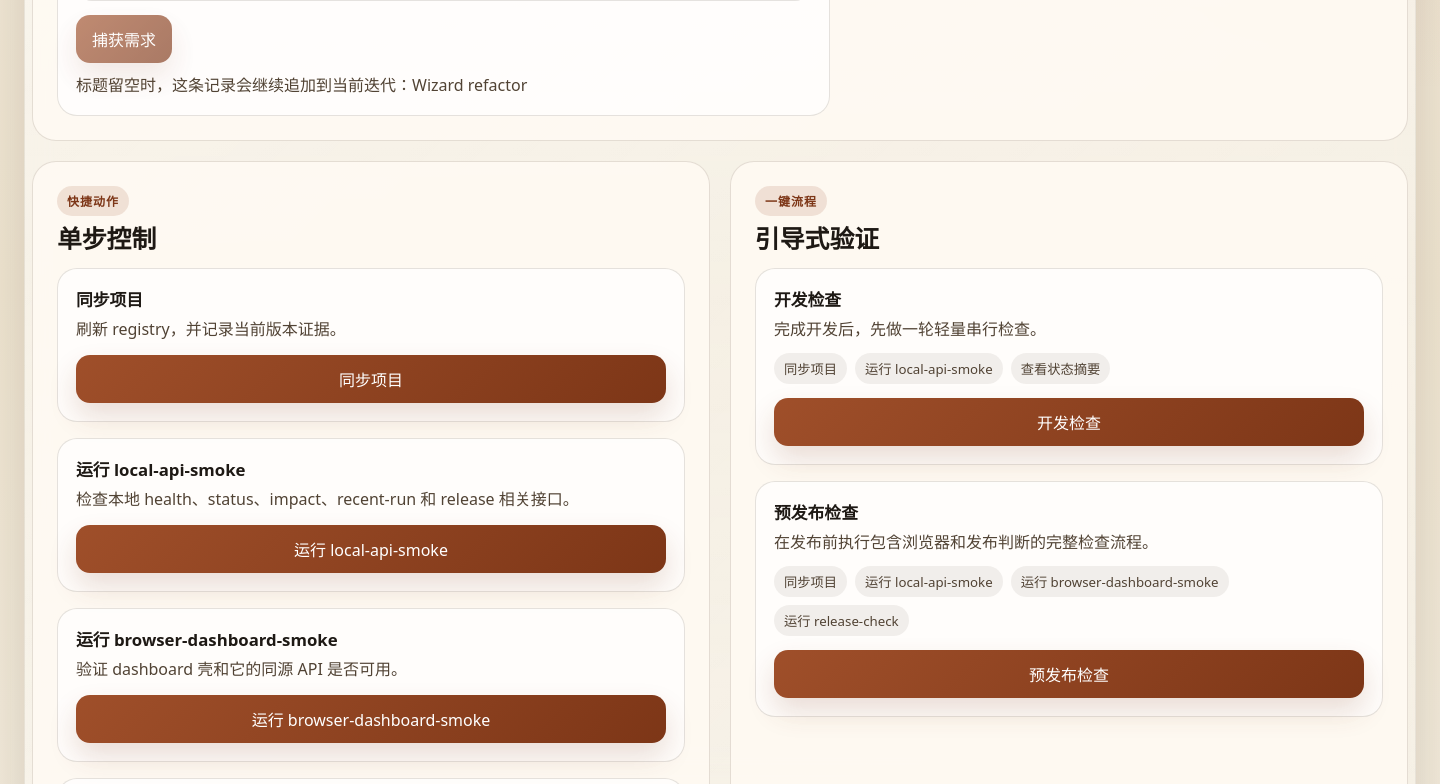
Console App › localizes known execution summaries but keeps raw logs unchanged
(page scrolled)
Click the button "同步项目". click: (371, 379)
box: [76,355,666,403]
(page scrolled)
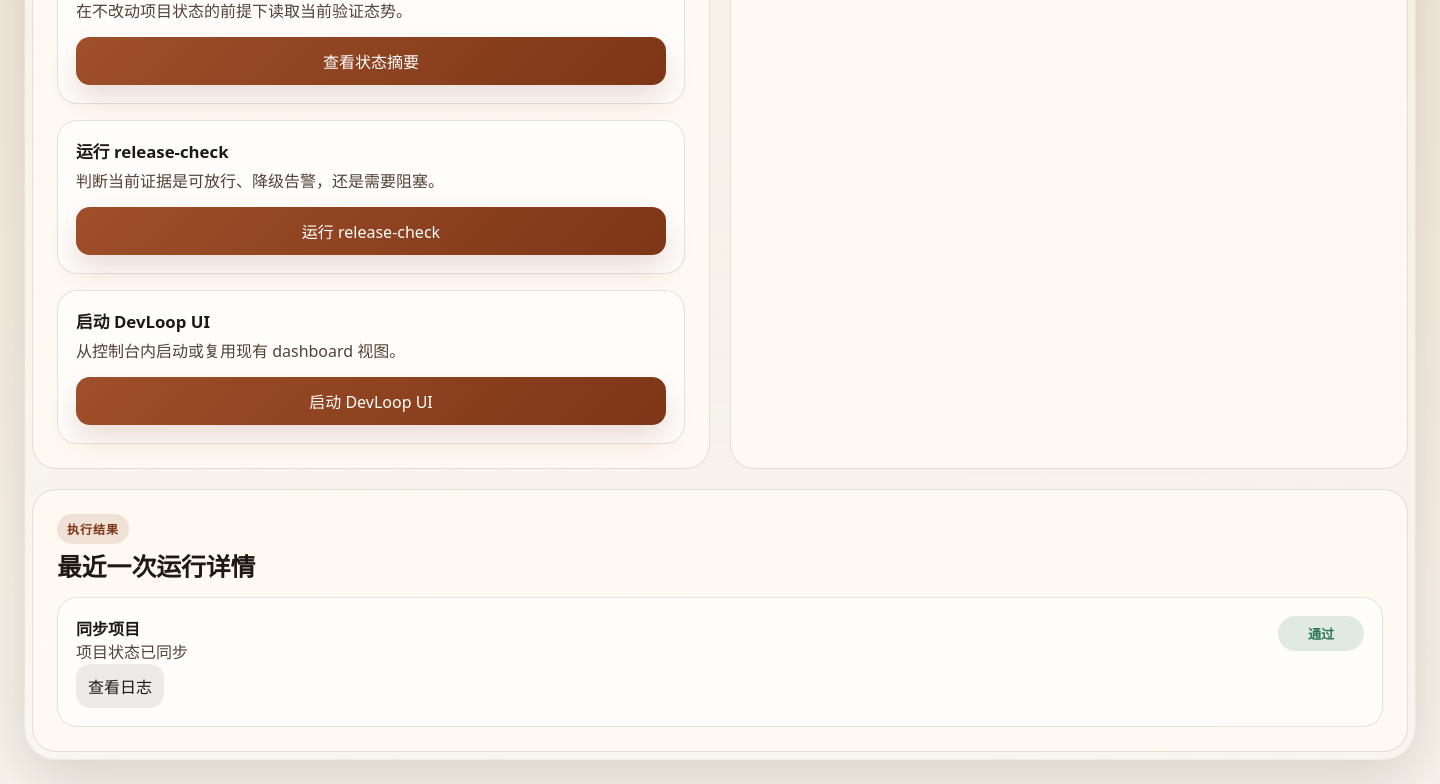
Expected: the element "最近一次运行详情" is shown, [32,489,1408,752]
Expected: the text "项目状态已同步" is shown, [76,640,188,664]
Click the button "查看日志". click: (120, 686)
box: [76,664,164,708]
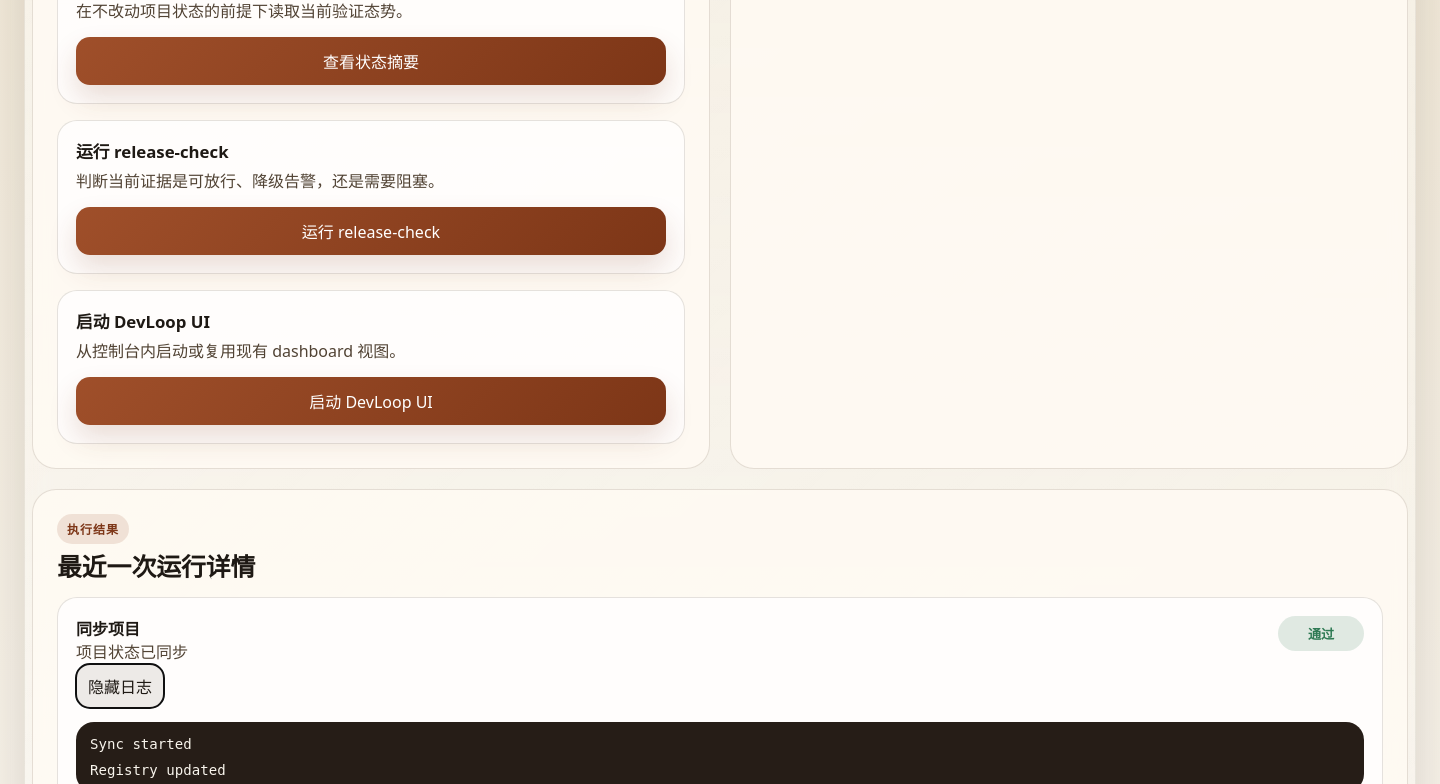
Expected: the text "Sync started" is shown, [90,736,192,752]
Expected: the text "Registry updated" is shown, [90,762,226,778]
